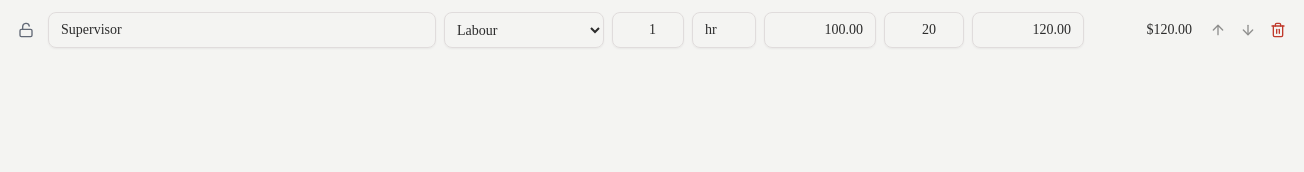
Test: a sell below cost gives a negative markup
Replace the text in the field named "Unit sell" with "90": (1028, 30) left=972, top=12, right=1084, bottom=48
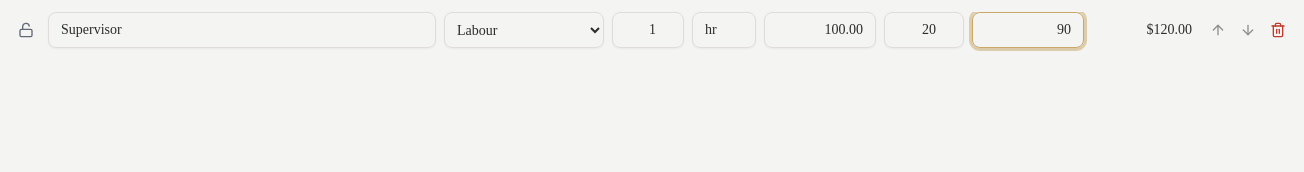
Press Tab
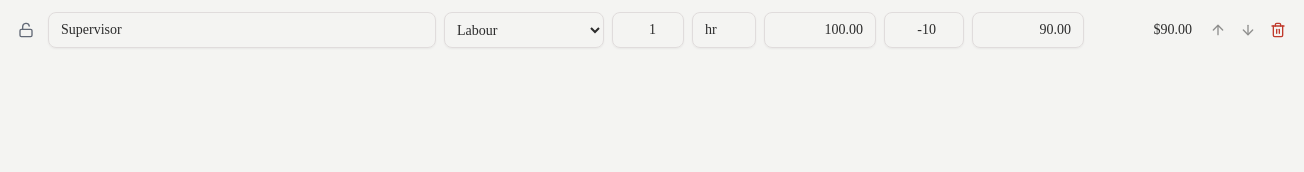
Expected: the number field named "Markup %" holds "-10", left=884, top=12, right=964, bottom=48
